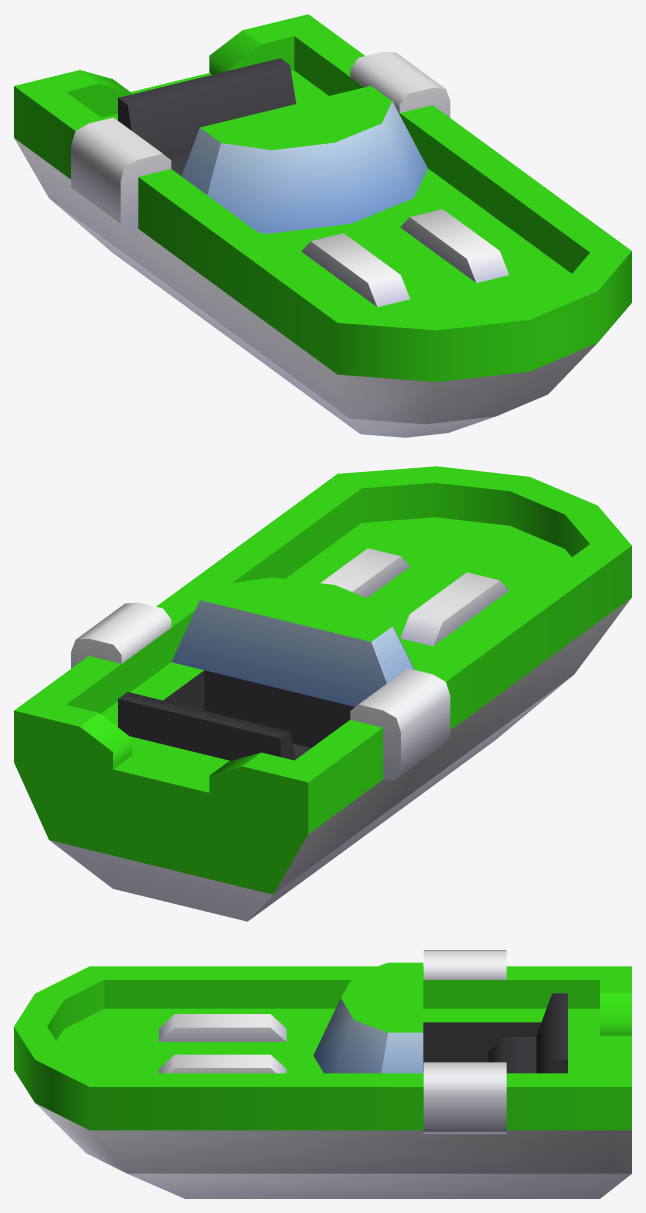
Rendered from boat-speed-d.glb.
3 renders of one model, top to bottom at view 1: azimuth 30°, elevation 25°; view 2: azimuth 150°, elevation 25°; view 3: azimuth 270°, elevation 25°, orthographic. The views are drawn at different scales.
Parts seen in each view (by area): view 1: body.001, boat-speed-d; view 2: body.001, boat-speed-d; view 3: body.001, boat-speed-d.
Boxes of the visible parts, x1,y1,x2,y2 form: body.001: (14,14,631,382); boat-speed-d: (14,51,597,437); body.001: (14,466,631,894); boat-speed-d: (50,548,631,921); body.001: (14,962,631,1130); boat-speed-d: (35,950,631,1198).
Size of the model in its own units: 2 by 1.2 by 3.87.
Materials: 2 (1 with a texture image).
